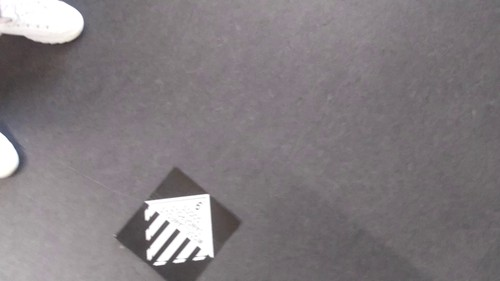misgoods: (141, 196, 224, 263)
